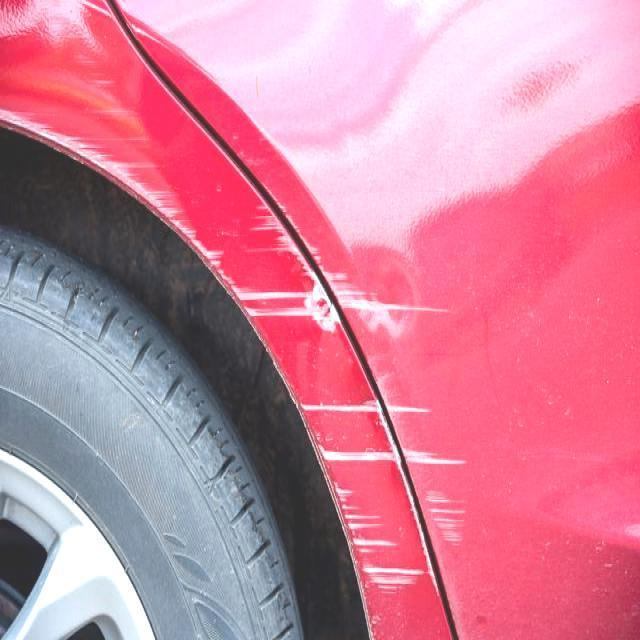minor: (233, 248, 461, 640), (31, 111, 184, 235), (324, 225, 462, 341), (407, 455, 473, 556), (389, 407, 432, 449)
